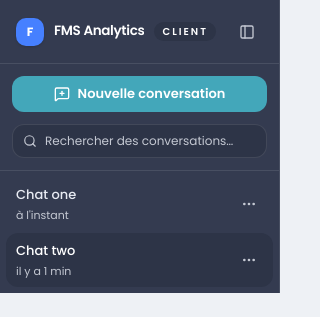
Test: ConversationsSidebar › Escape cancels rename
Click the 1st button named "Options de la conversation" at (249, 204), box [235, 190, 263, 218]
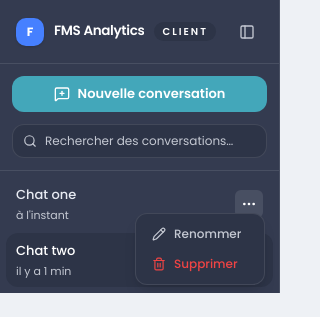
Click the menu item "Renommer" at (200, 234), box [142, 220, 258, 248]
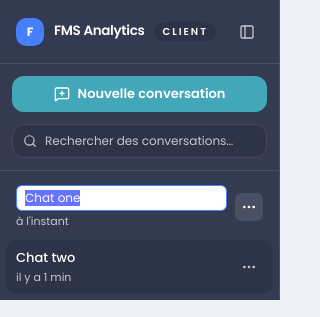
Press Escape in the field showing "Chat one", box [16, 185, 227, 211]
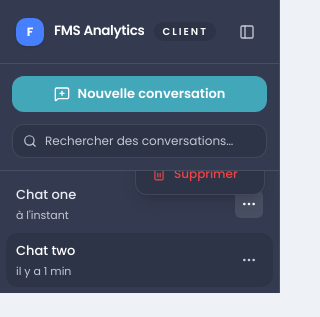
expect the text "Chat one" is shown: met, box [16, 185, 76, 204]
